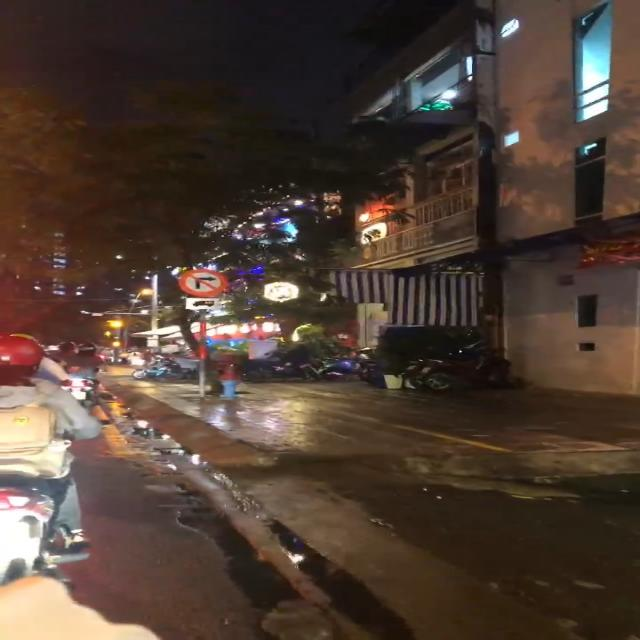Bien bao cam re phai: (173, 267, 229, 298)
